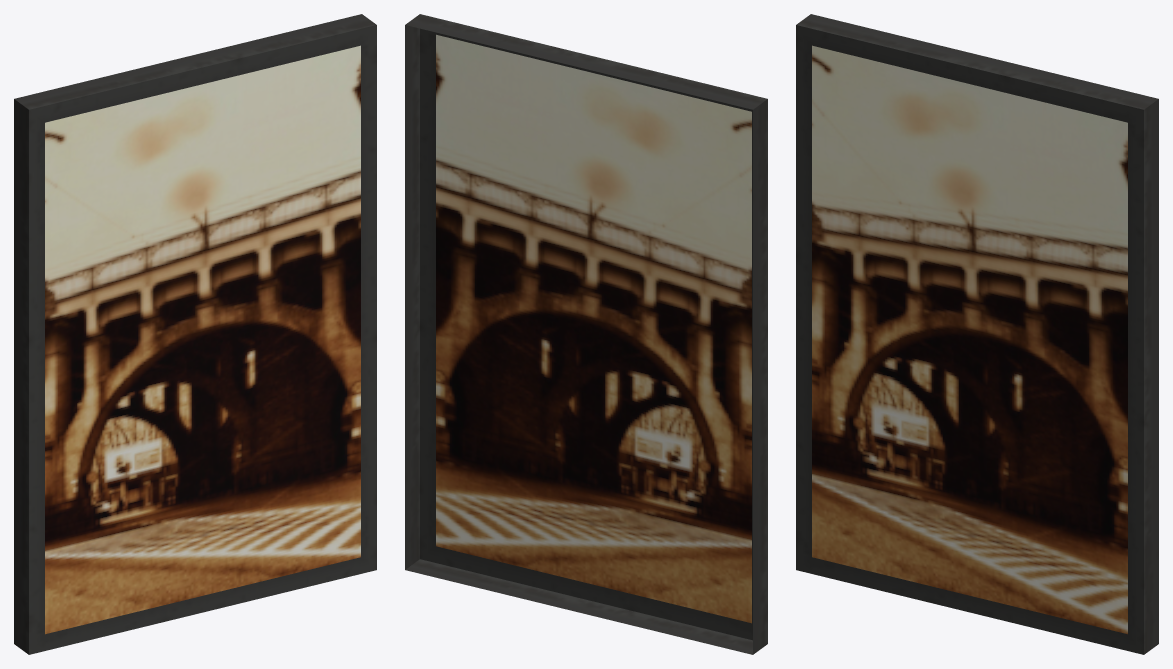
Rendered from paint_6.fbx.
3 renders of one model, left to right at view 1: azimuth 30°, elevation 25°; view 2: azimuth 150°, elevation 25°; view 3: azimuth 330°, elevation 25°, orthographic.
Visible parts, largest first — view 1: pCube6; view 2: pCube6; view 3: pCube6.
Part boxes in pixels (x1,y1,x2,y2): pCube6: (14, 14, 376, 654); pCube6: (405, 14, 767, 654); pCube6: (796, 14, 1158, 654).
Size of the model in its own units: 66.18 by 99.09 by 4.93.
